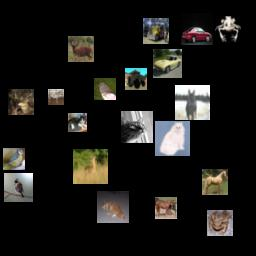automobile: (181, 13, 213, 45), (153, 49, 182, 78)
bird: (4, 173, 33, 202), (3, 148, 25, 170), (94, 78, 116, 100)
cat: (155, 121, 190, 156), (97, 191, 129, 223), (121, 111, 153, 143), (68, 113, 87, 132)
deer: (73, 149, 108, 184), (8, 89, 34, 115), (68, 36, 94, 62)
frog: (207, 210, 233, 236), (215, 16, 241, 42)
truck: (143, 18, 169, 44), (125, 68, 147, 90)
